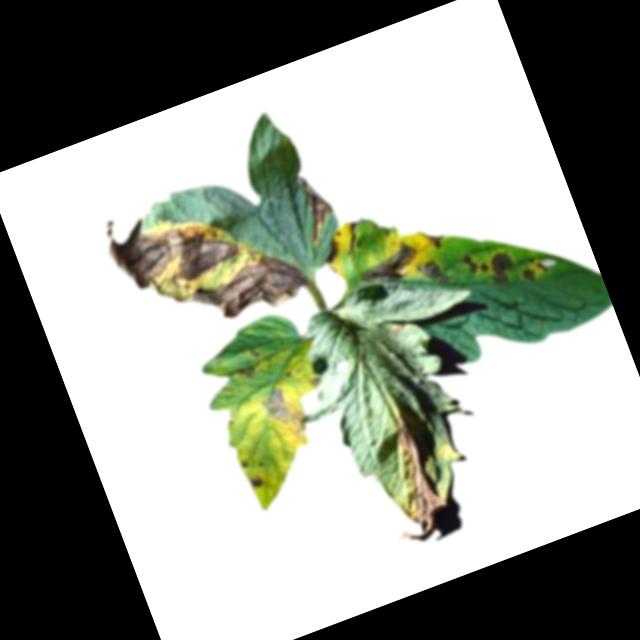Early_blight: (95, 173, 258, 304), (161, 239, 317, 344), (355, 406, 457, 550), (284, 168, 341, 244), (352, 236, 424, 295), (256, 376, 309, 443), (484, 246, 519, 286), (419, 251, 454, 290), (517, 253, 551, 283), (420, 225, 449, 256), (460, 249, 489, 279), (318, 236, 346, 264), (234, 361, 261, 383), (244, 469, 266, 491), (243, 345, 262, 363)
